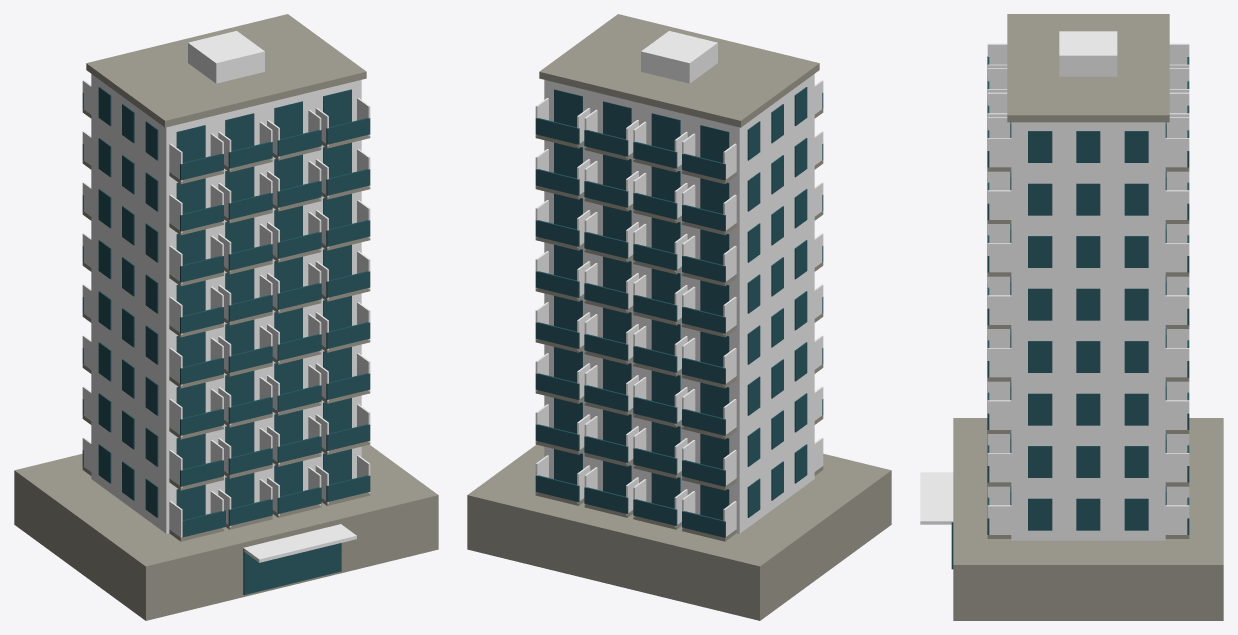
Rendered from source-edit.glb.
The picture shows the model from 3 angles, left to right: view 1: azimuth 30°, elevation 25°; view 2: azimuth 150°, elevation 25°; view 3: azimuth 270°, elevation 25°; orthographic projection. The views are drawn at different scales.
Parts seen in each view (by area): view 1: Tower_Core, Private_Podium, Roof_Cap, Lobby_Glass, Lift_Overrun, Entrance_Canopy, Sliding_Glass.029, Sliding_Glass.028, Sliding_Glass.031, Sliding_Glass.030, Sliding_Glass.004, Sliding_Glass.020 (+58 smaller); view 2: Tower_Core, Private_Podium, Roof_Cap, Lift_Overrun, Sliding_Glass.061, Sliding_Glass.060, Sliding_Glass.063, Sliding_Glass.062, Sliding_Glass.036, Sliding_Glass.052, Sliding_Glass.056, Sliding_Glass.037 (+56 smaller); view 3: Tower_Core, Private_Podium, Roof_Cap, Lift_Overrun, Entrance_Canopy, Side_Window.024, Side_Window.025, Side_Window.026, Side_Window.030, Side_Window.031, Side_Window.032, Side_Window.036 (+55 smaller).
Part boxes in pixels (x1,y1,x2,y2): Tower_Core: (91, 74, 361, 533); Private_Podium: (14, 444, 438, 620); Roof_Cap: (86, 14, 366, 127); Lobby_Glass: (243, 543, 341, 594); Lift_Overrun: (188, 31, 264, 83); Entrance_Canopy: (243, 524, 356, 562); Sliding_Glass.029: (225, 113, 254, 150); Sliding_Glass.028: (176, 125, 205, 162); Sliding_Glass.031: (323, 89, 351, 127); Sliding_Glass.030: (274, 101, 302, 138); Sliding_Glass.004: (176, 433, 205, 469); Sliding_Glass.020: (176, 229, 205, 264); Tower_Core: (544, 74, 814, 533); Private_Podium: (467, 444, 891, 620); Roof_Cap: (539, 14, 819, 127); Lift_Overrun: (641, 31, 717, 83); Sliding_Glass.061: (651, 113, 680, 150); Sliding_Glass.060: (700, 125, 729, 162); Sliding_Glass.063: (554, 89, 582, 127); Sliding_Glass.062: (603, 101, 631, 138); Sliding_Glass.036: (700, 433, 729, 469); Sliding_Glass.052: (700, 229, 729, 264); Sliding_Glass.056: (700, 178, 729, 213); Sliding_Glass.037: (651, 422, 680, 457); Tower_Core: (1011, 122, 1165, 540); Private_Podium: (953, 418, 1223, 620); Roof_Cap: (1007, 14, 1169, 122); Lift_Overrun: (1059, 31, 1117, 76); Entrance_Canopy: (920, 472, 953, 524); Side_Window.024: (1028, 498, 1052, 530); Side_Window.025: (1076, 498, 1100, 530); Side_Window.026: (1124, 498, 1148, 530); Side_Window.030: (1028, 393, 1052, 425); Side_Window.031: (1076, 393, 1100, 425); Side_Window.032: (1124, 393, 1148, 425); Side_Window.036: (1028, 288, 1052, 320).
Size of the model in its own units: 18 by 28.8 by 15.7.
